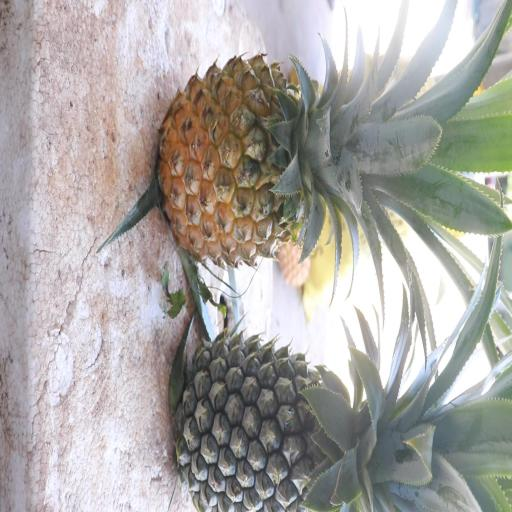Pineapple - v8 v1: (157, 48, 454, 286)
